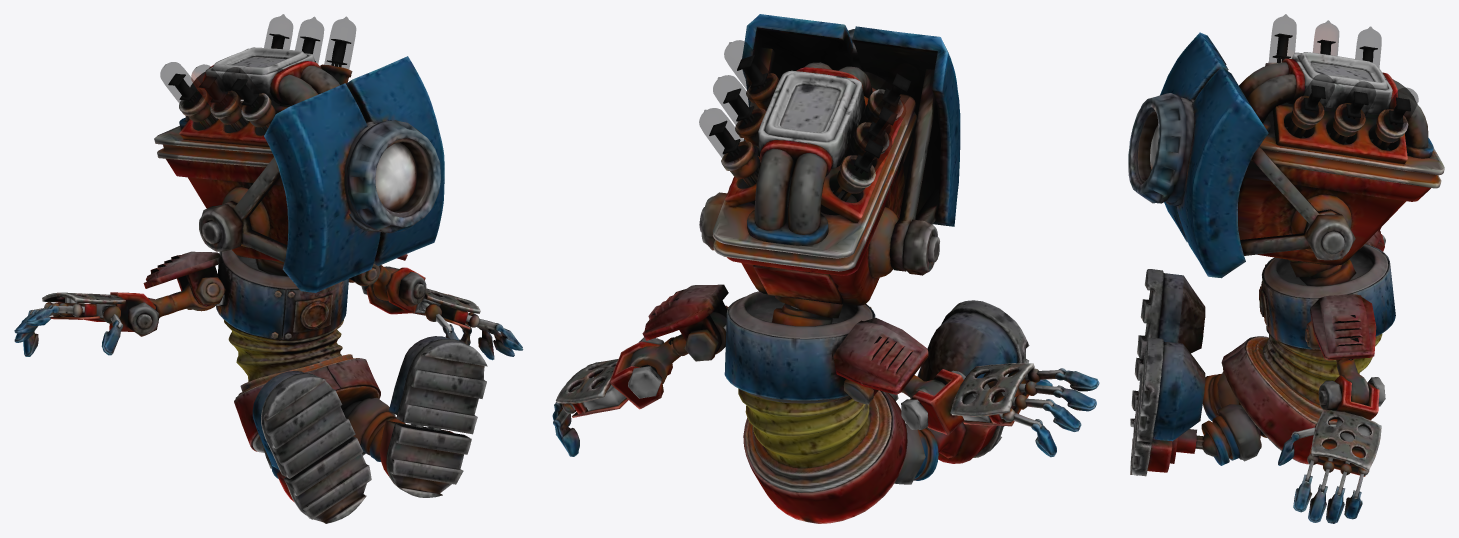
File: rob.glb
The picture shows the model from 3 angles, left to right: view 1: azimuth 30°, elevation 25°; view 2: azimuth 150°, elevation 25°; view 3: azimuth 270°, elevation 25°; orthographic projection. The views are drawn at different scales.
Visible parts, largest first — view 1: Object_3, Object_2; view 2: Object_3, Object_2; view 3: Object_3, Object_2.
Boxes of the visible parts, box(x1,y1,x2,y2) form: Object_3: box(14, 33, 523, 523); Object_2: box(160, 14, 355, 114); Object_3: box(552, 14, 1099, 523); Object_2: box(699, 40, 919, 180); Object_3: box(1128, 32, 1444, 523); Object_2: box(1269, 14, 1418, 131).
Bounding box in the file's own units: 121 × 97.4 × 68.73.
2 materials, 2 textured.
